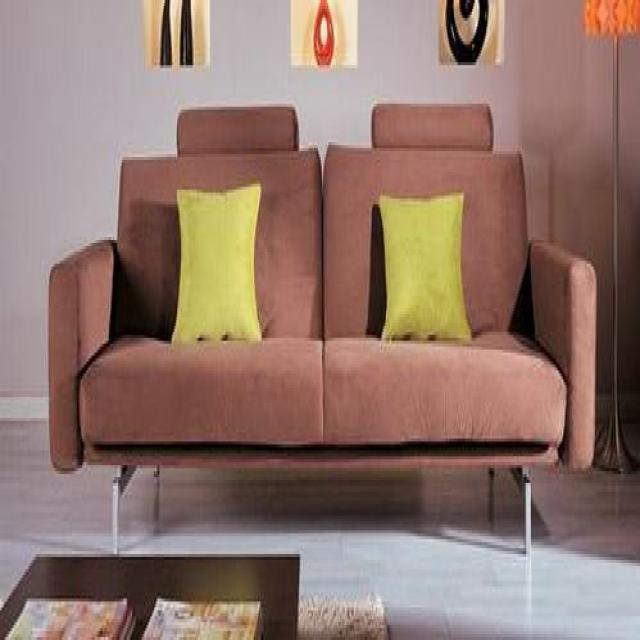sofa: (47, 101, 599, 556)
